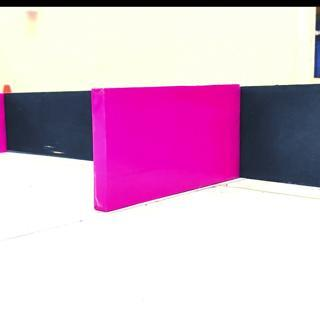xparking: (93, 87, 240, 183)
